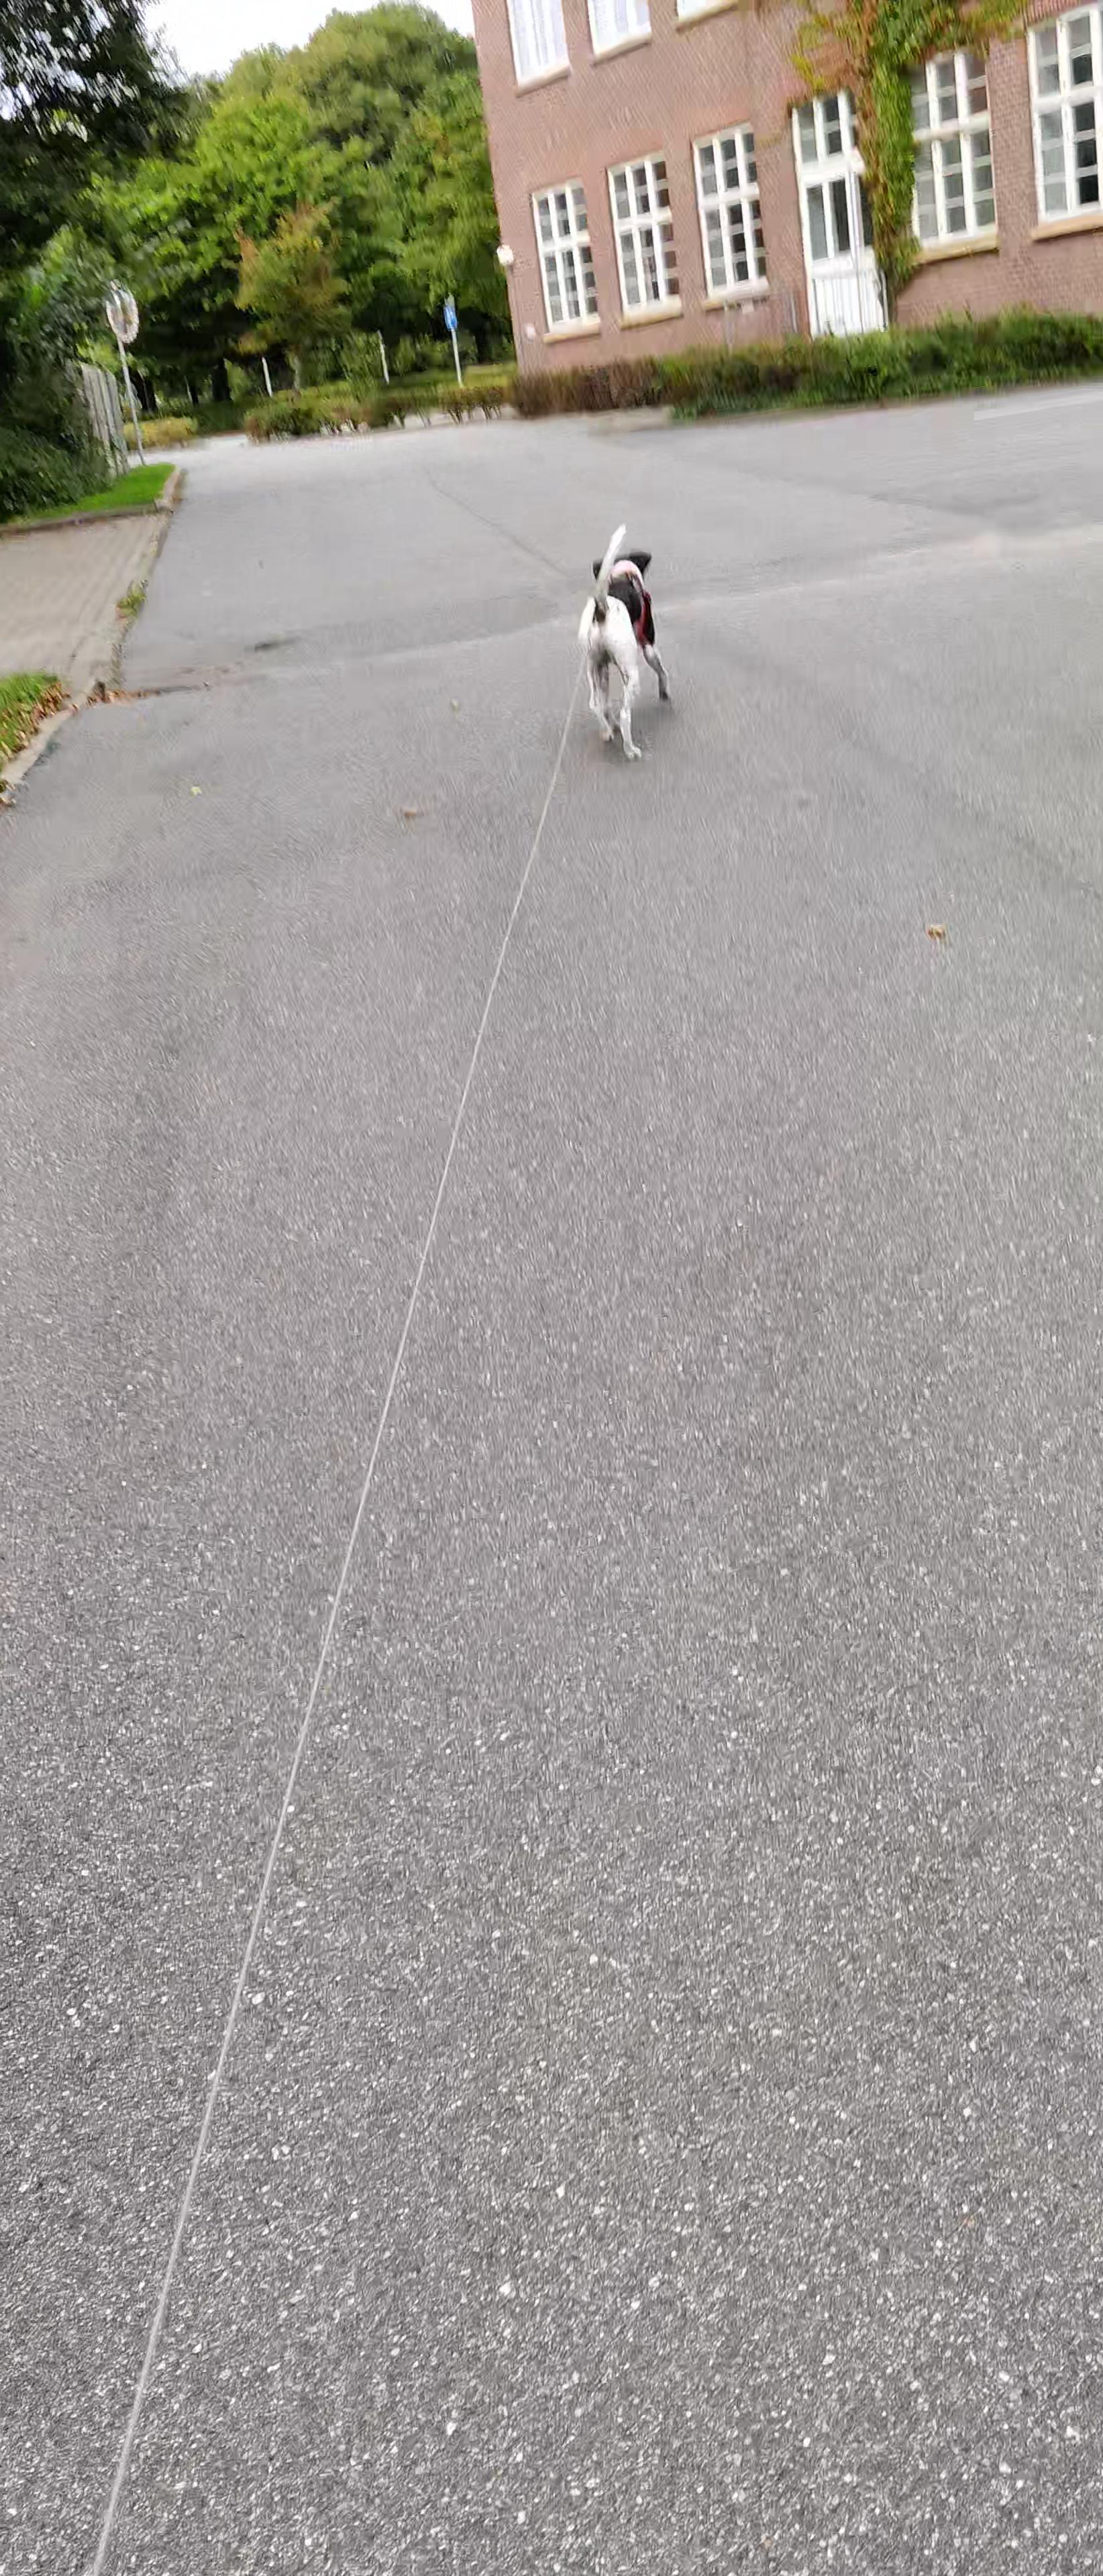Dog: (570, 519, 676, 766)
